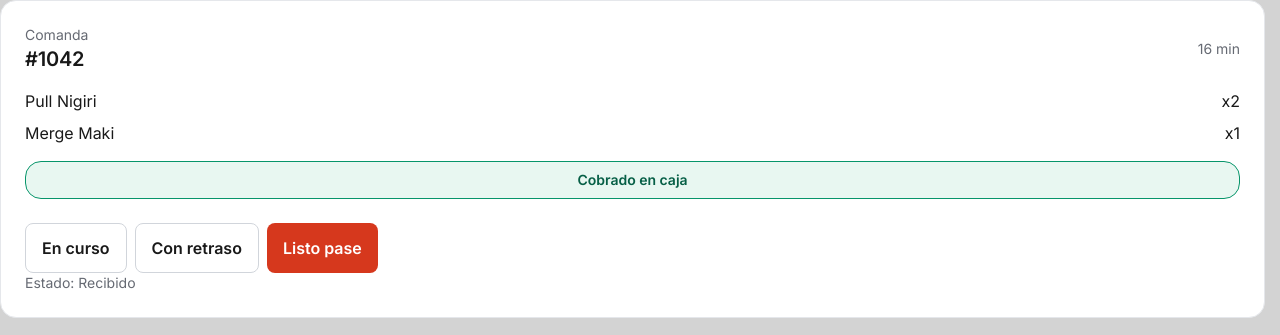
Test: KitchenOrderCard › dine-in payment › marks the order as paid, hides the button and notifies the view
Step 1. Click the button with class "kitchen-order-card__collect" → click(632, 180), box [25,161,1240,199]
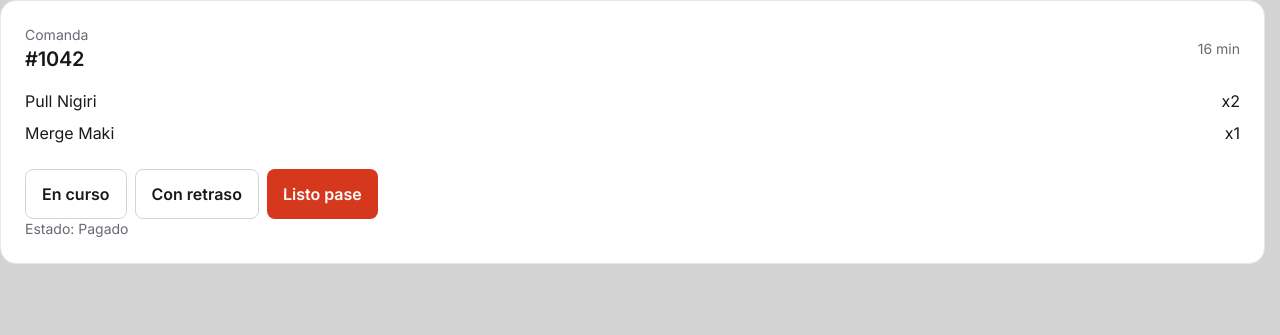
Result: the text "Estado: Pagado" is shown at [25,220,128,237]
